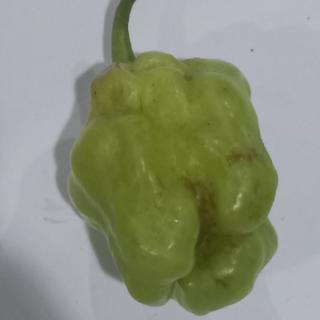Grade-A: (63, 48, 284, 313)
